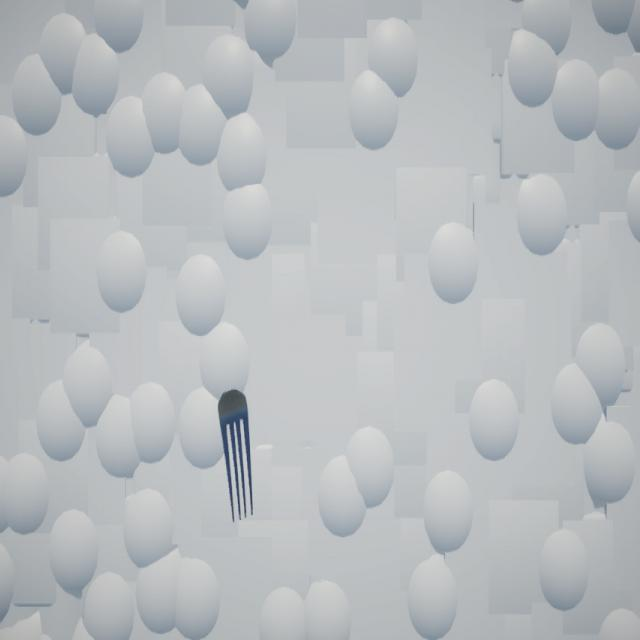top_folk: (218, 390, 254, 523)
